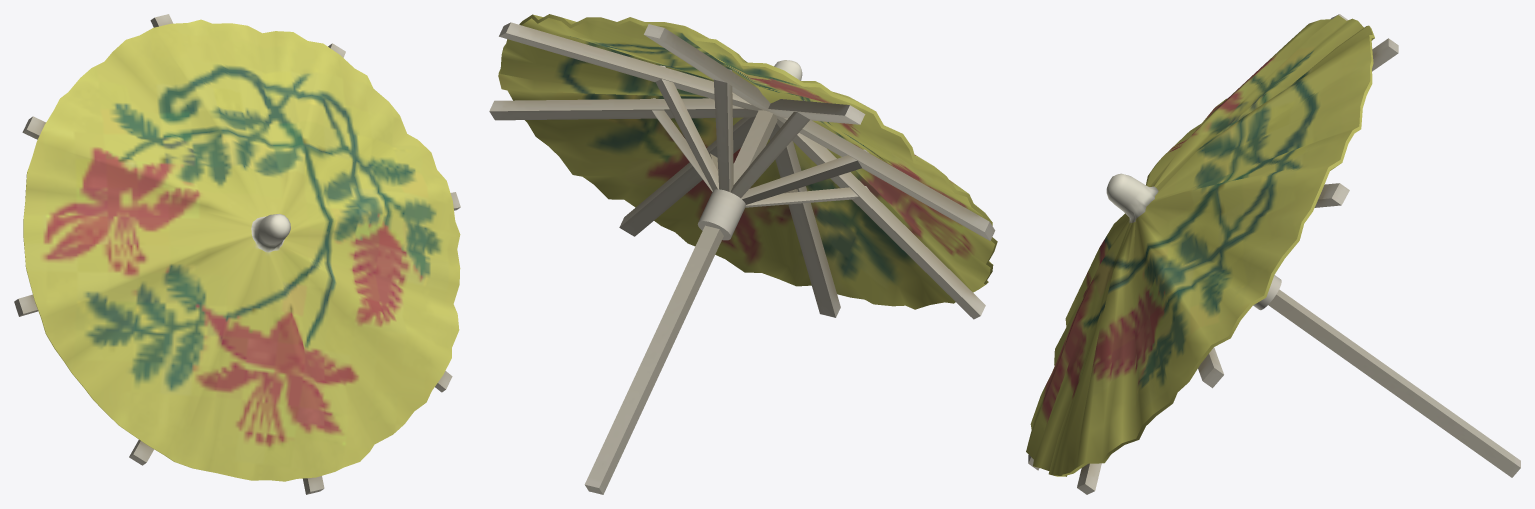
File: ref_gtumbrella.glb
3 renders of one model, left to right at view 1: azimuth 30°, elevation 25°; view 2: azimuth 150°, elevation 25°; view 3: azimuth 270°, elevation 25°, orthographic. The views are drawn at different scales.
Parts seen in each view (by area): view 1: ref_gtumbrella_part0; view 2: ref_gtumbrella_part0; view 3: ref_gtumbrella_part0.
Boxes of the visible parts, <box> form: ref_gtumbrella_part0: <box>14,14,460,494</box>; ref_gtumbrella_part0: <box>489,14,997,494</box>; ref_gtumbrella_part0: <box>1026,14,1520,494</box>.
Size of the model in its own units: 1 by 0.8157 by 0.8464.
1 material, 1 textured.
